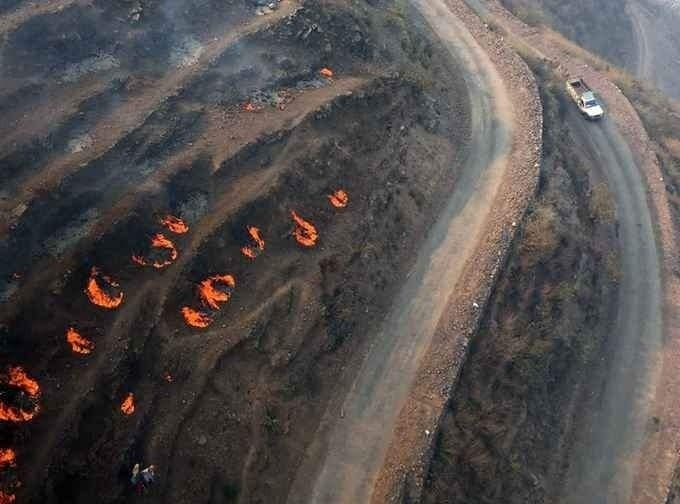fire: (136, 213, 190, 268), (182, 271, 232, 326), (83, 270, 123, 308), (288, 210, 319, 246), (62, 323, 93, 354), (240, 224, 265, 258), (327, 185, 348, 207), (117, 390, 137, 413)
